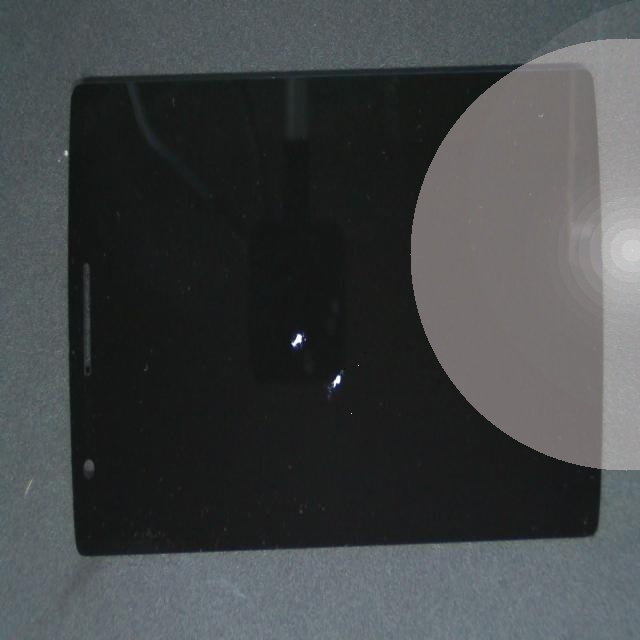stain: (154, 165, 483, 601), (133, 149, 422, 520)
